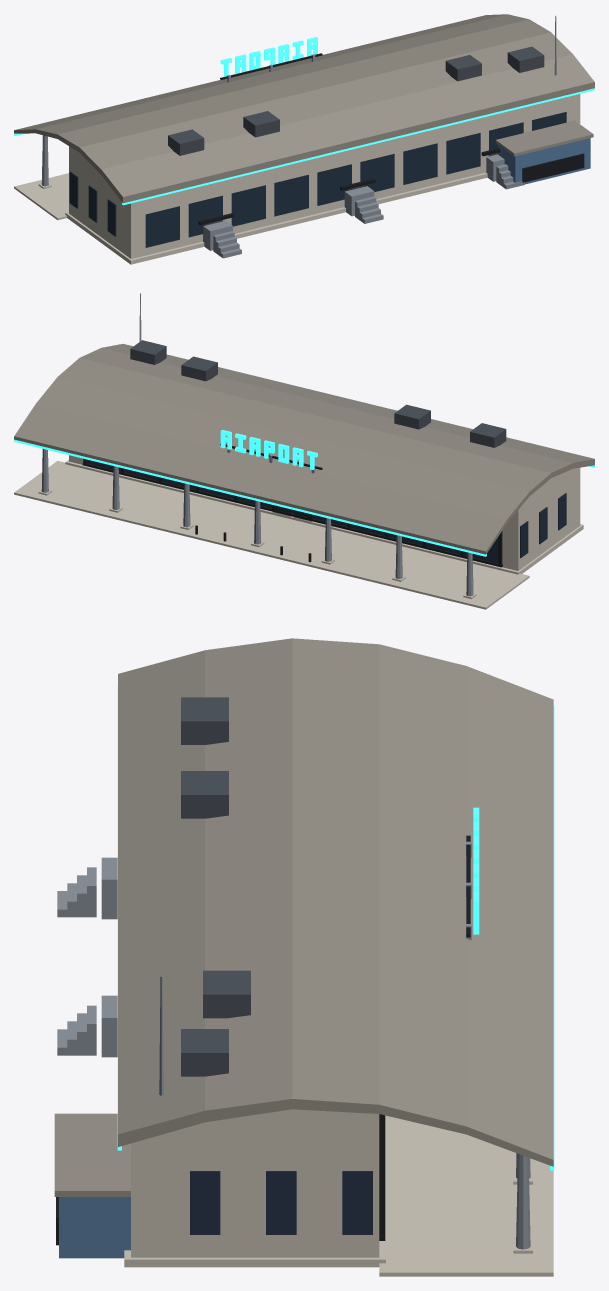
File: terminal.glb
3 renders of one model, top to bottom at view 1: azimuth 30°, elevation 25°; view 2: azimuth 150°, elevation 25°; view 3: azimuth 270°, elevation 25°, orthographic. The views are drawn at different scales.
Parts seen in each view (by area): view 1: Body; view 2: Body; view 3: Body.
Part boxes in pixels (<box>): Body: <box>14,14,594,264</box>; Body: <box>14,293,594,609</box>; Body: <box>54,638,554,1276</box>.
Size of the model in its own units: 50 by 13.8 by 22.92.
